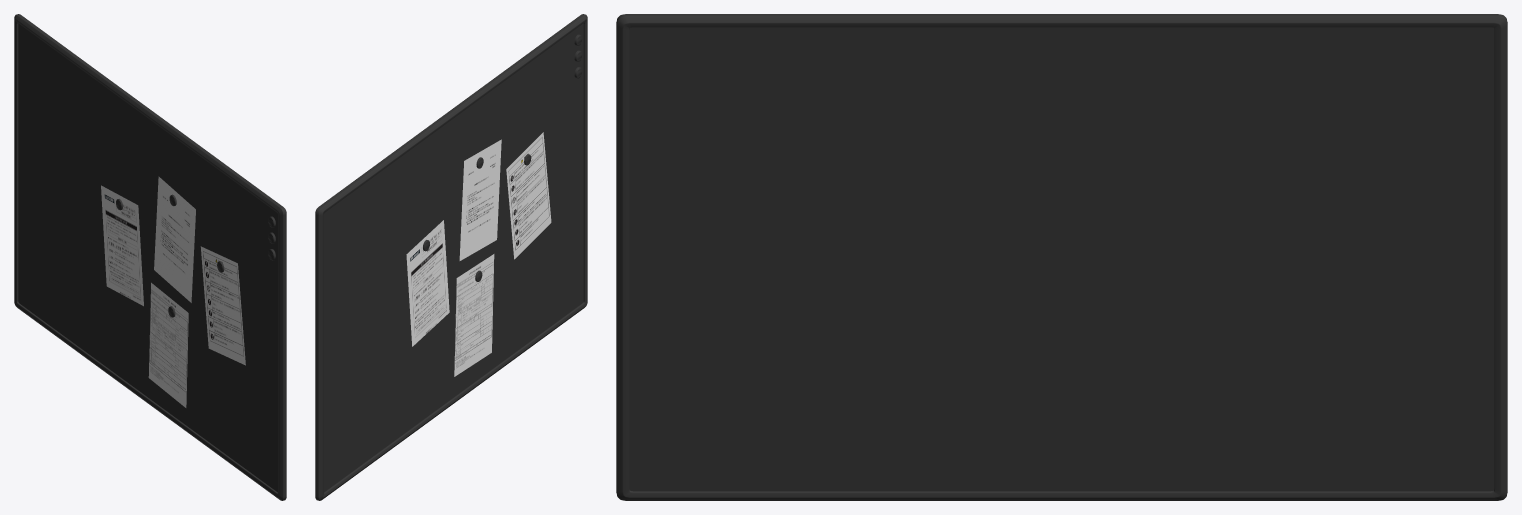
Rendered from SM_Whiteboard_StandlesSM_180_90.fbx.
3 renders of one model, left to right at view 1: azimuth 30°, elevation 25°; view 2: azimuth 150°, elevation 25°; view 3: azimuth 270°, elevation 25°, orthographic. The views are drawn at different scales.
Parts seen in each view (by area): view 1: SM_Whiteboard_StandlesSM_180_90_LOD0; view 2: SM_Whiteboard_StandlesSM_180_90_LOD0; view 3: SM_Whiteboard_StandlesSM_180_90_LOD0.
Boxes of the visible parts, x1,y1,x2,y2 form: SM_Whiteboard_StandlesSM_180_90_LOD0: (14, 14, 286, 500); SM_Whiteboard_StandlesSM_180_90_LOD0: (315, 14, 587, 500); SM_Whiteboard_StandlesSM_180_90_LOD0: (616, 14, 1507, 500).
Size of the model in its own units: 2.44 by 150 by 90.
